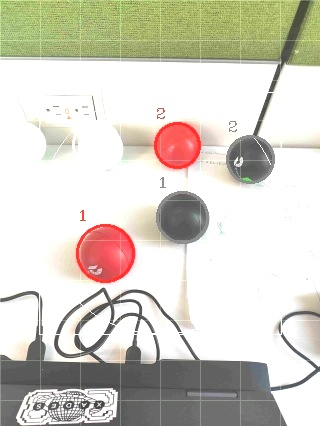Pelota blanca: (0, 289, 44, 363), (279, 310, 320, 389), (71, 118, 123, 171), (0, 118, 46, 168)
Pelota negra: (153, 190, 211, 246), (225, 134, 275, 184)
Pelota roja: (74, 222, 137, 283), (151, 121, 201, 171)
